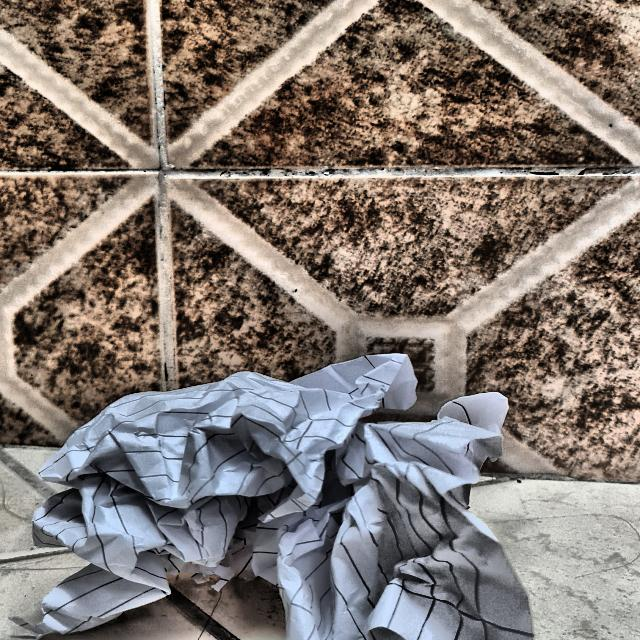paper: (15, 344, 537, 640)
